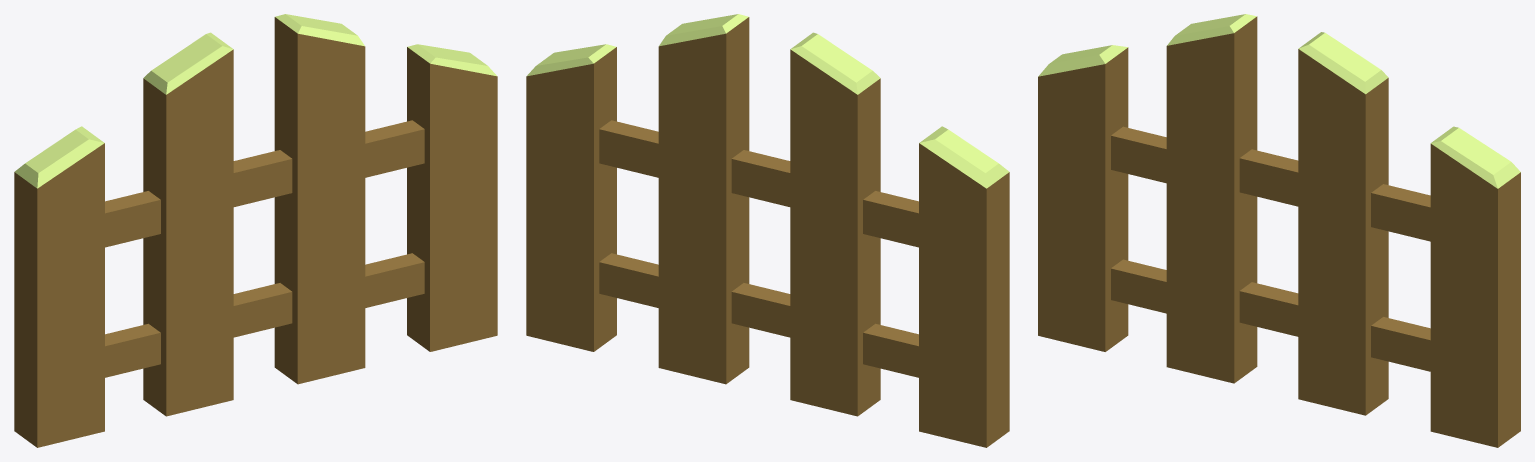
Rendered from Fence2.fbx.
3 views of the same model, side by side, from view 1: azimuth 30°, elevation 25°; view 2: azimuth 150°, elevation 25°; view 3: azimuth 330°, elevation 25° (orthographic).
Visible parts, largest first — view 1: Fence2; view 2: Fence2; view 3: Fence2.
Part boxes in pixels (bbox=[...]): Fence2: bbox=[14, 14, 497, 447]; Fence2: bbox=[526, 14, 1009, 447]; Fence2: bbox=[1038, 14, 1520, 447].
Size of the model in its own units: 165 by 121 by 14.29.
